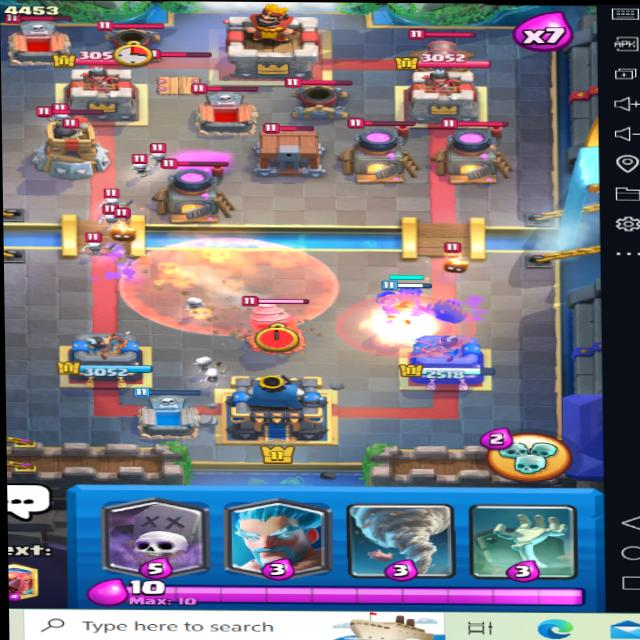bomb-tower: (33, 102, 112, 181)
cannon: (404, 26, 484, 74)
fire-spirit: (437, 246, 477, 281), (108, 215, 142, 244)
furnace: (432, 114, 524, 189), (337, 115, 418, 186), (151, 155, 233, 222)
goblin-cage: (253, 120, 327, 180)
goblin-drill: (230, 291, 327, 353)
mortar: (98, 9, 172, 61), (283, 74, 352, 122)
skeleton: (73, 226, 109, 261), (94, 204, 126, 238), (143, 140, 176, 170), (129, 153, 163, 181), (44, 102, 77, 127), (95, 189, 128, 213)
tesla-closed: (136, 45, 216, 98)
tombstone: (0, 2, 85, 64), (188, 82, 265, 135)
